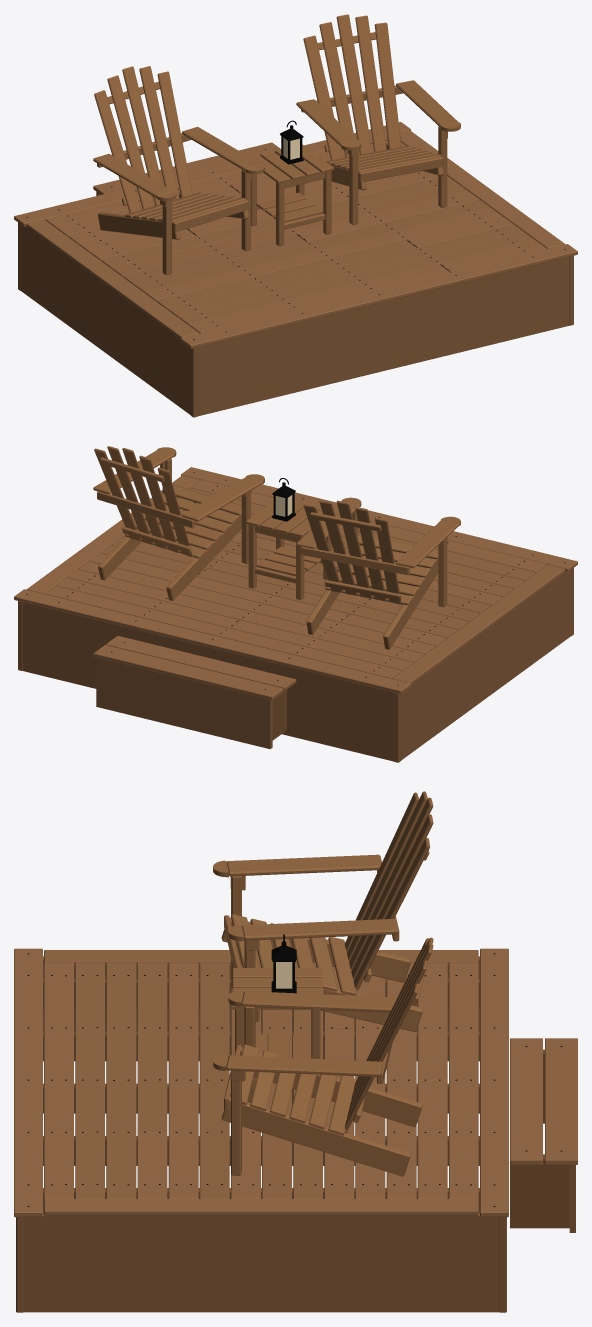
The model's file is deck.glb.
3 renders of one model, top to bottom at view 1: azimuth 30°, elevation 25°; view 2: azimuth 150°, elevation 25°; view 3: azimuth 270°, elevation 25°, orthographic. The views are drawn at different scales.
Parts seen in each view (by area): view 1: deck_wood, deck_metal_black; view 2: deck_wood, deck_metal_black; view 3: deck_wood, deck_metal_black.
Part boxes in pixels (left/top/right/bottom): deck_wood: left=14, top=14, right=577, bottom=417; deck_metal_black: left=26, top=120, right=565, bottom=339; deck_wood: left=14, top=446, right=577, bottom=762; deck_metal_black: left=26, top=472, right=565, bottom=689; deck_wood: left=14, top=791, right=577, bottom=1312; deck_metal_black: left=27, top=934, right=562, bottom=1206.
Size of what is drawn, in the model's own units: 3.03 by 1.65 by 2.74.
